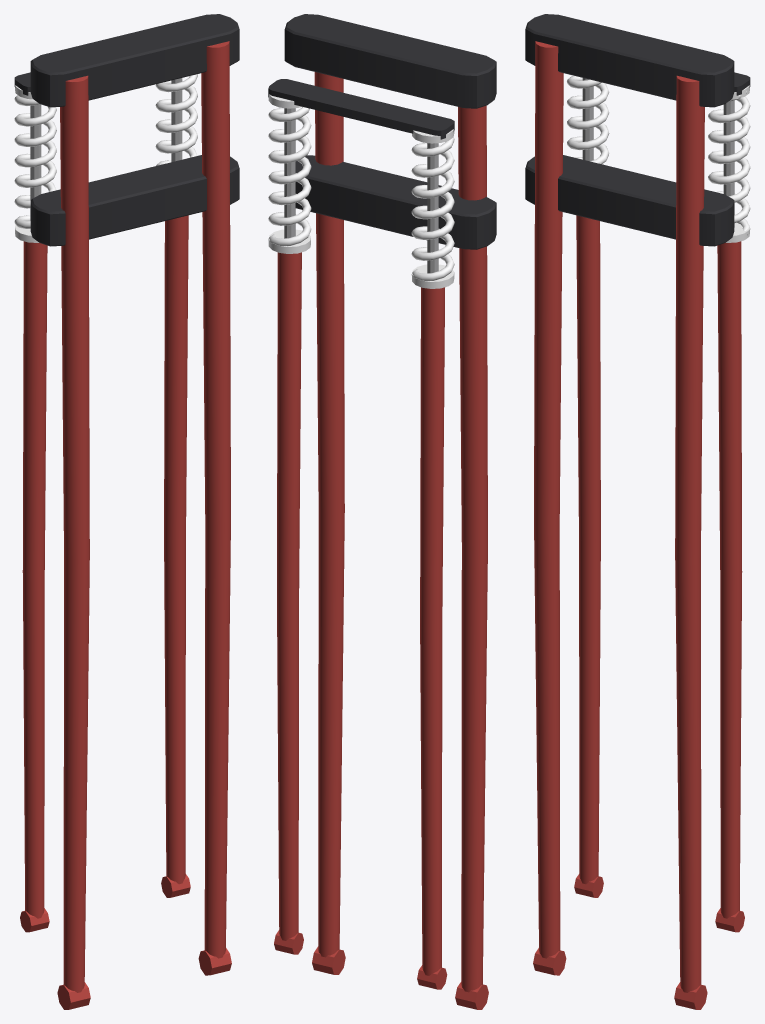
The model's file is chopper_springer_chrome_upper.glb.
3 renders of one model, left to right at view 1: azimuth 30°, elevation 25°; view 2: azimuth 150°, elevation 25°; view 3: azimuth 330°, elevation 25°, orthographic.
Visible parts, largest first — view 1: lod0; view 2: lod0; view 3: lod0.
Boxes of the visible parts, bbox=[...] form: lod0: bbox=[14, 14, 239, 1009]; lod0: bbox=[268, 14, 496, 1009]; lod0: bbox=[525, 14, 750, 1009].
Size of what is drawn, in the model's own units: 0.24 by 1.08 by 0.1214.
